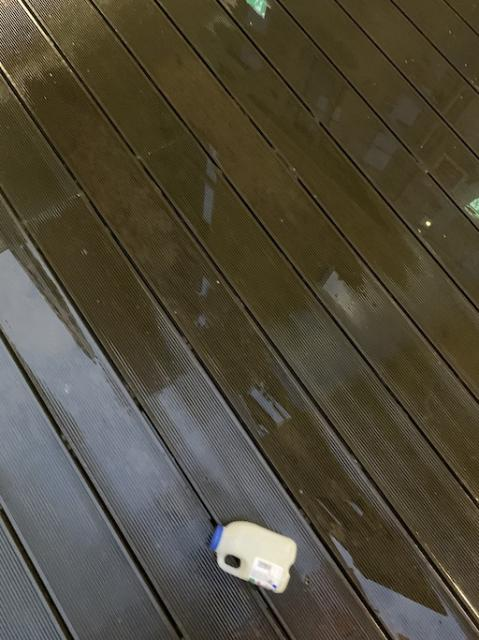plastic: (210, 520, 295, 591)
